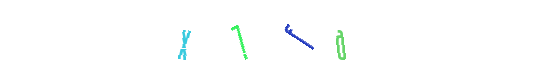7: (240, 0, 320, 80)
A: (260, 0, 340, 80)
F: (257, 0, 337, 80)
X: (145, 0, 225, 80)
